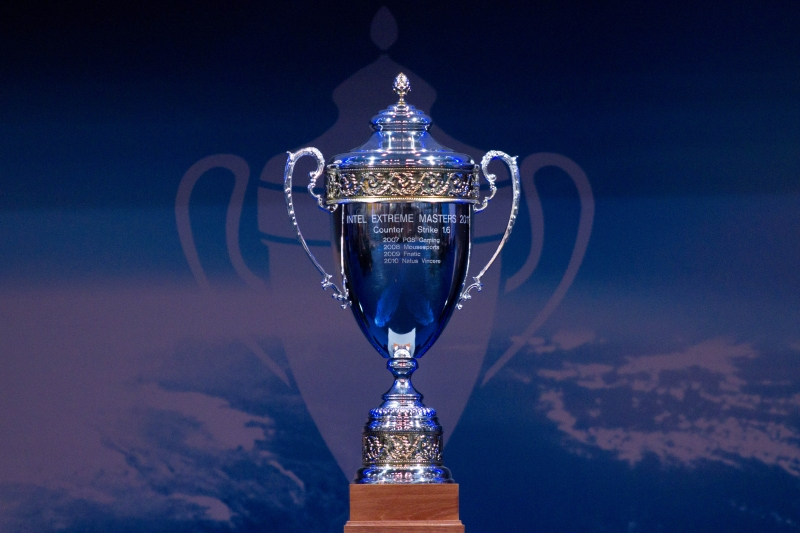trophy: (279, 70, 528, 533)
